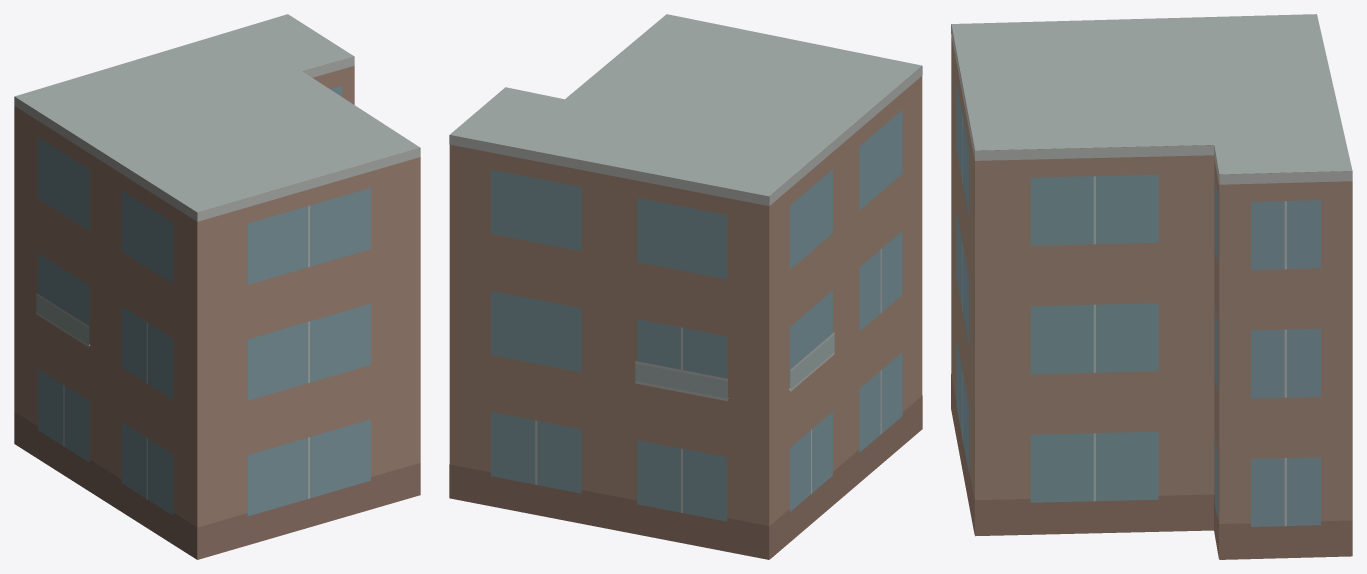
The model's file is survey-upis-32991710.glb.
3 renders of one model, left to right at view 1: azimuth 30°, elevation 25°; view 2: azimuth 150°, elevation 25°; view 3: azimuth 270°, elevation 25°, orthographic. The views are drawn at different scales.
Visible parts, largest first — view 1: survey-upis-32991710.tmp; view 2: survey-upis-32991710.tmp; view 3: survey-upis-32991710.tmp.
Part boxes in pixels (bbox=[...]): survey-upis-32991710.tmp: bbox=[14, 14, 420, 559]; survey-upis-32991710.tmp: bbox=[449, 14, 922, 559]; survey-upis-32991710.tmp: bbox=[951, 14, 1352, 559].
Bounding box in the file's own units: 8.13 × 9.1 × 8.6.
